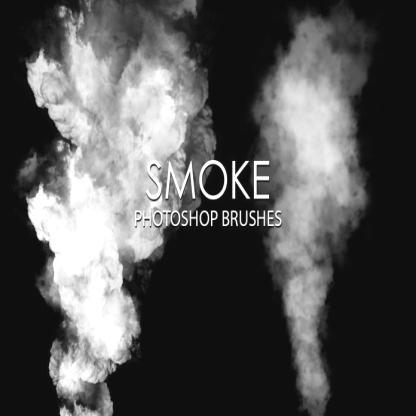smoke: (256, 10, 375, 415), (29, 0, 138, 415)
